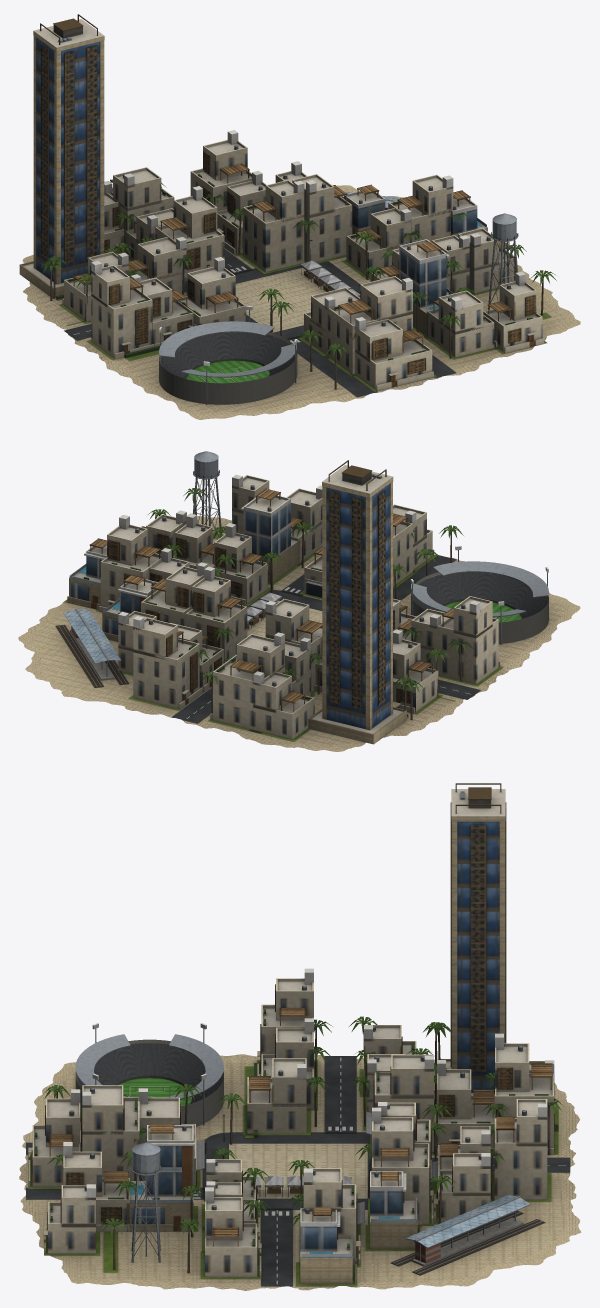
The model's file is modern-town-big-a-levant.glb.
3 renders of one model, top to bottom at view 1: azimuth 30°, elevation 25°; view 2: azimuth 150°, elevation 25°; view 3: azimuth 270°, elevation 25°, orthographic. The views are drawn at different scales.
Parts seen in each view (by area): view 1: LOD0; view 2: LOD0; view 3: LOD0.
Part boxes in pixels (left/top/right/bottom): LOD0: left=19, top=14, right=580, bottom=419; LOD0: left=18, top=451, right=580, bottom=751; LOD0: left=19, top=783, right=581, bottom=1290.
Size of what is drawn, in the model's own units: 8.04 by 4.65 by 8.09.
Materials: 3 (3 with a texture image).
